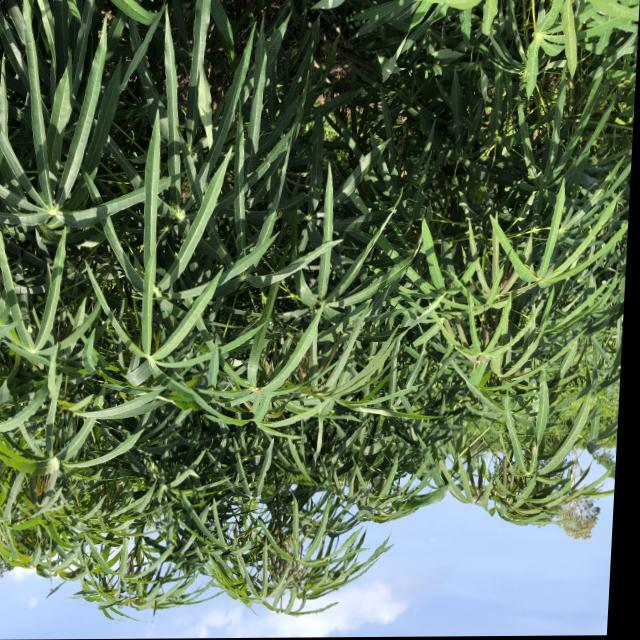Mosca: (242, 381, 264, 397)
